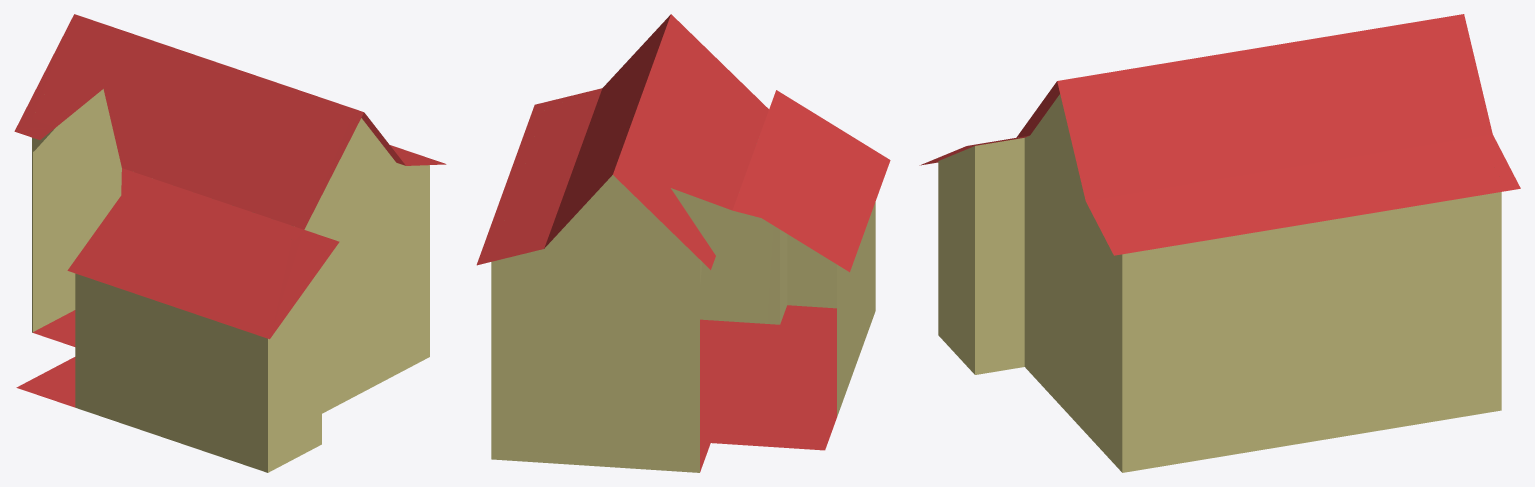
3 views of the same model, side by side, from view 1: azimuth 30°, elevation 25°; view 2: azimuth 150°, elevation 25°; view 3: azimuth 270°, elevation 25° (orthographic). The views are drawn at different scales.
Bounding box in the file's own units: 16.28 × 20.29 × 12.59.
